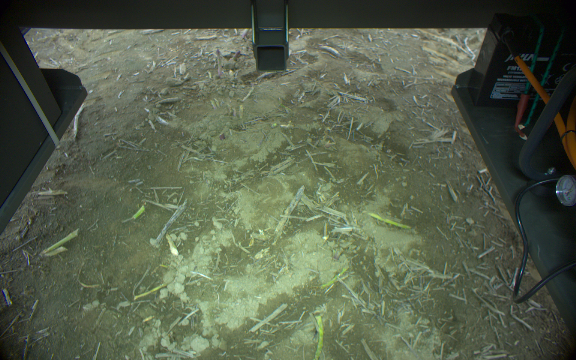aspa: (38, 226, 80, 258), (364, 208, 412, 232), (309, 313, 327, 360), (132, 201, 148, 223)
